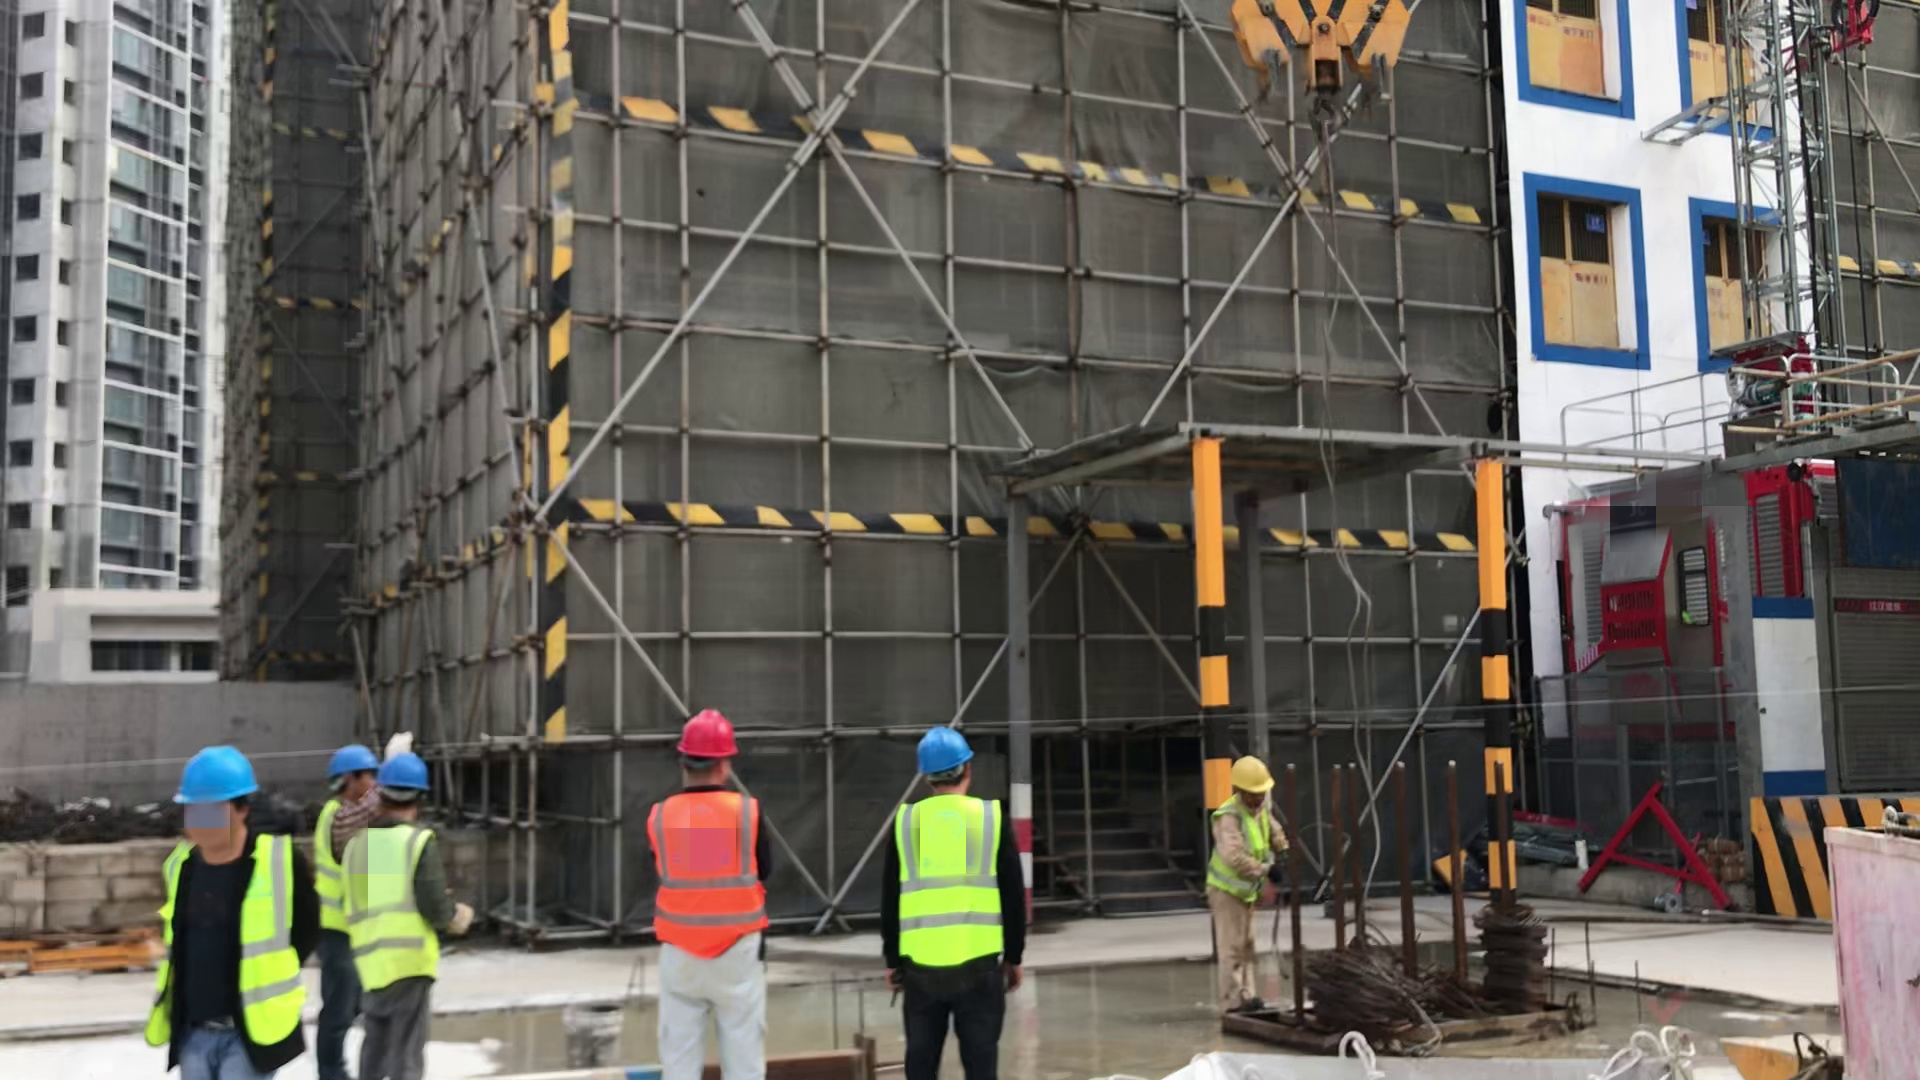helmet: (173, 750, 260, 804), (675, 711, 739, 756), (915, 727, 973, 776), (377, 754, 429, 793), (1231, 755, 1274, 793), (329, 747, 380, 775)
hook: (1228, 1, 1413, 137)
hopper: (1173, 1045, 1694, 1080), (1723, 1029, 1861, 1080)
person: (639, 710, 779, 1080), (148, 749, 298, 1080), (885, 724, 1017, 1080), (356, 762, 444, 1080), (1208, 753, 1285, 1015), (323, 746, 374, 1080)
vest: (155, 846, 300, 1043), (651, 800, 765, 961), (896, 794, 997, 968), (338, 829, 436, 980), (1205, 807, 1280, 900), (311, 804, 349, 935)
